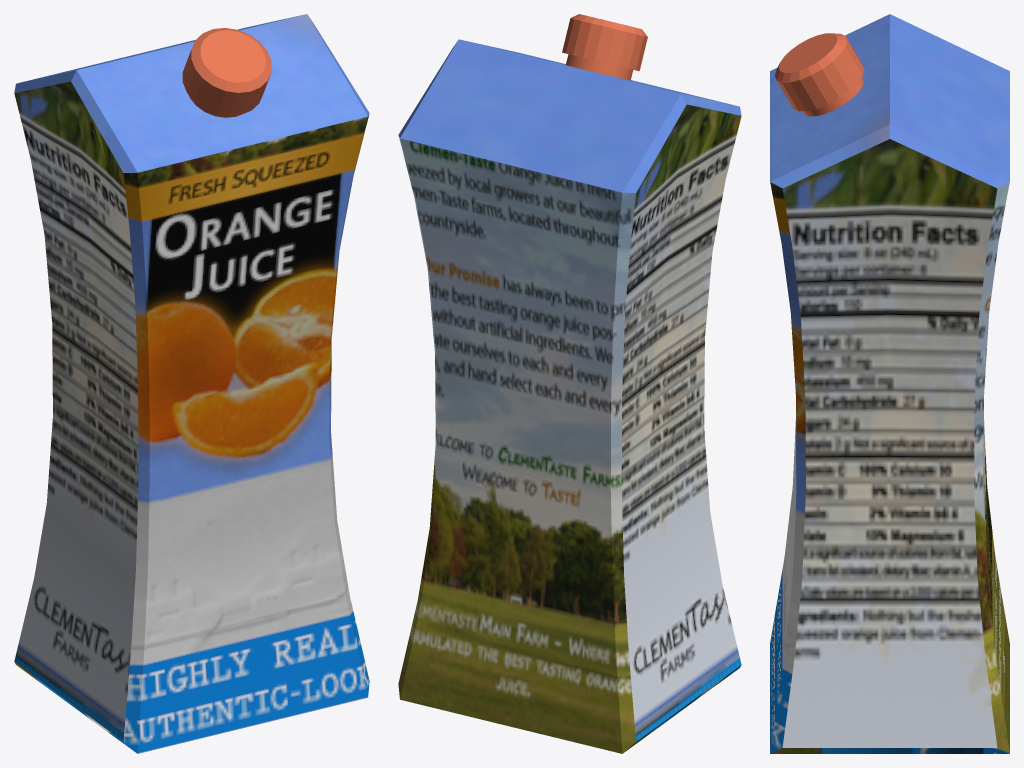
Rendered from juice.fbx.
The picture shows the model from 3 angles, left to right: view 1: azimuth 30°, elevation 25°; view 2: azimuth 150°, elevation 25°; view 3: azimuth 270°, elevation 25°; orthographic projection. The views are drawn at different scales.
Parts seen in each view (by area): view 1: Cube.063, Cylinder.008; view 2: Cube.063, Cylinder.008, Cylinder.009; view 3: Cube.063, Cylinder.008, Cylinder.009.
Part boxes in pixels (bbox=[...]): Cube.063: bbox=[14, 14, 369, 753]; Cylinder.008: bbox=[182, 28, 271, 115]; Cube.063: bbox=[398, 39, 741, 753]; Cylinder.008: bbox=[562, 14, 647, 71]; Cylinder.009: bbox=[566, 54, 633, 80]; Cube.063: bbox=[770, 14, 1009, 753]; Cylinder.008: bbox=[774, 33, 864, 111]; Cylinder.009: bbox=[802, 77, 863, 116].
Size of the model in its own units: 42.1 by 109 by 36.07.
Materials: 2 (1 with a texture image).
